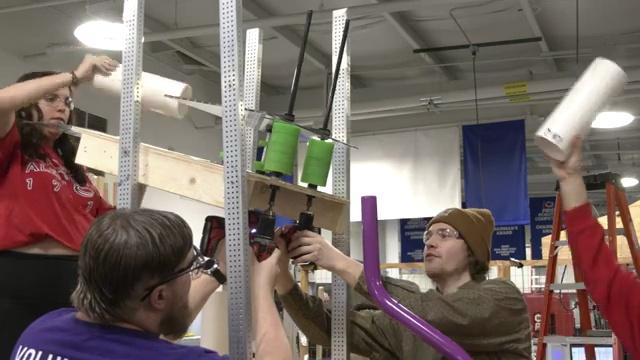CORAL: (532, 54, 627, 162), (93, 63, 192, 118)
